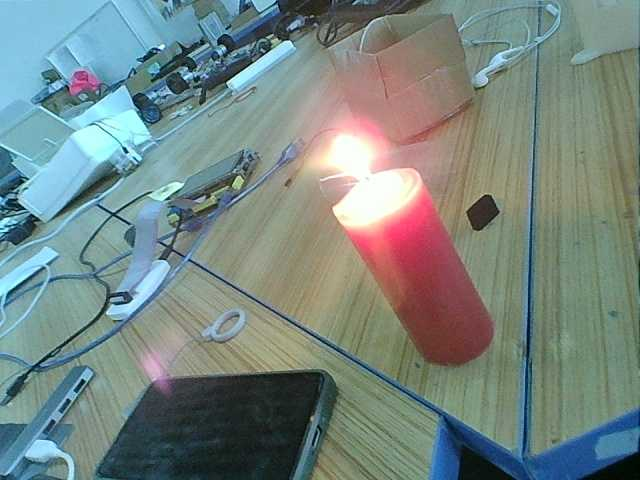candle: (347, 196, 509, 373)
fire: (310, 132, 411, 207)
